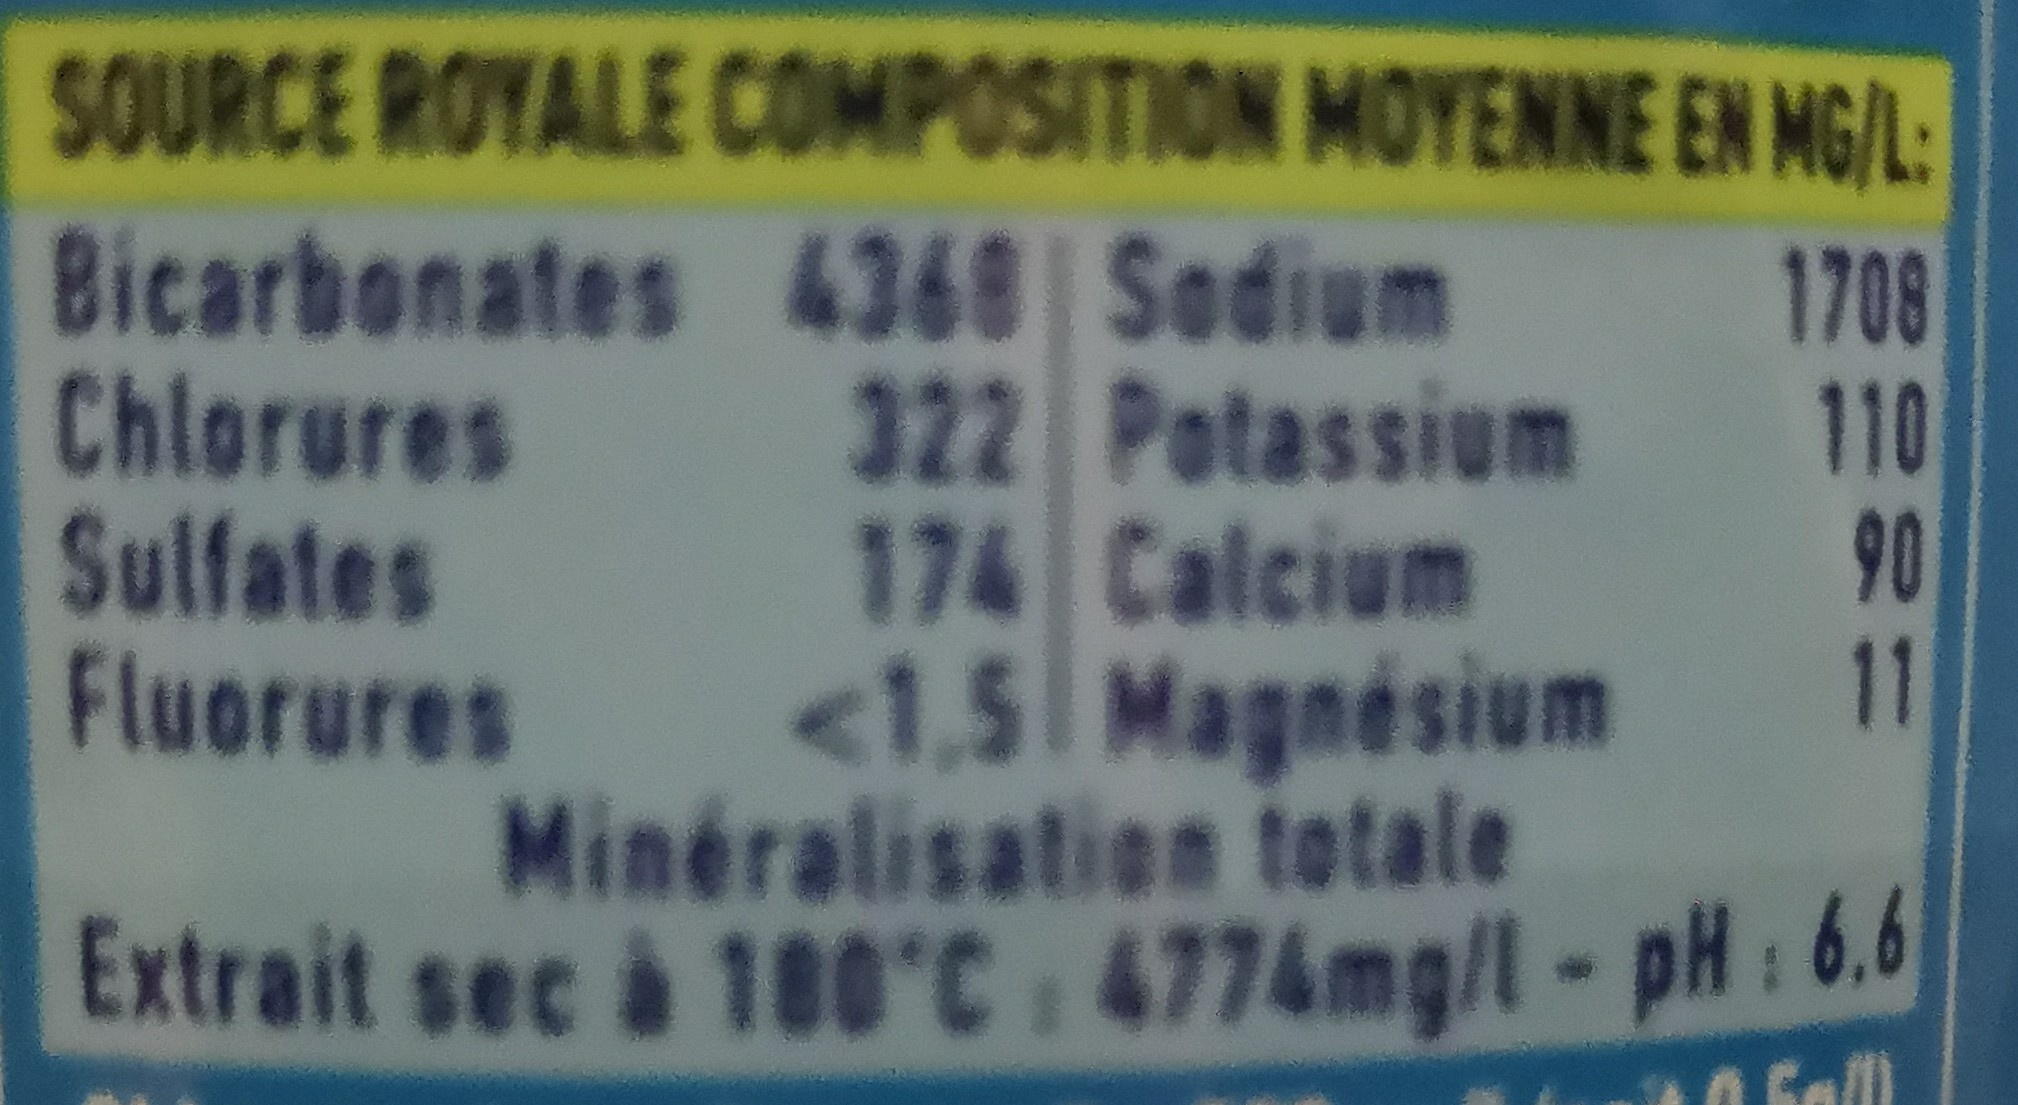column: (53, 225, 687, 770), (1099, 229, 1625, 787), (782, 223, 1036, 777), (1780, 242, 1936, 731)
table: (5, 19, 1940, 1068)
